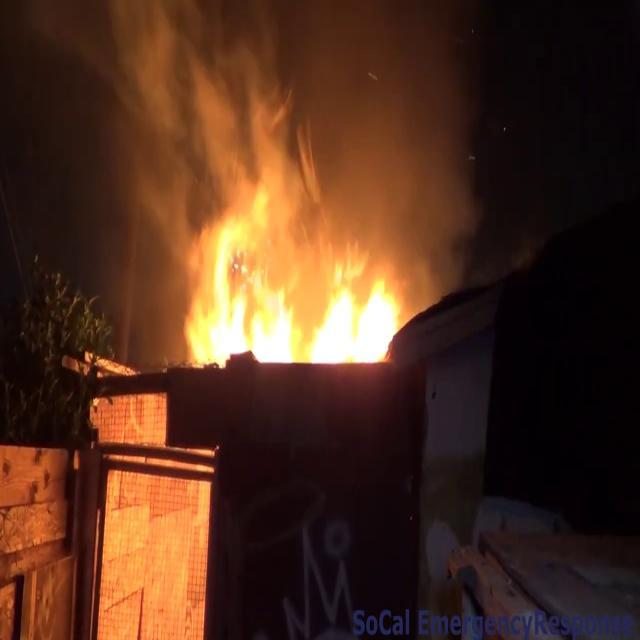Fire: (184, 228, 409, 376)
Smoke: (68, 0, 504, 272)
